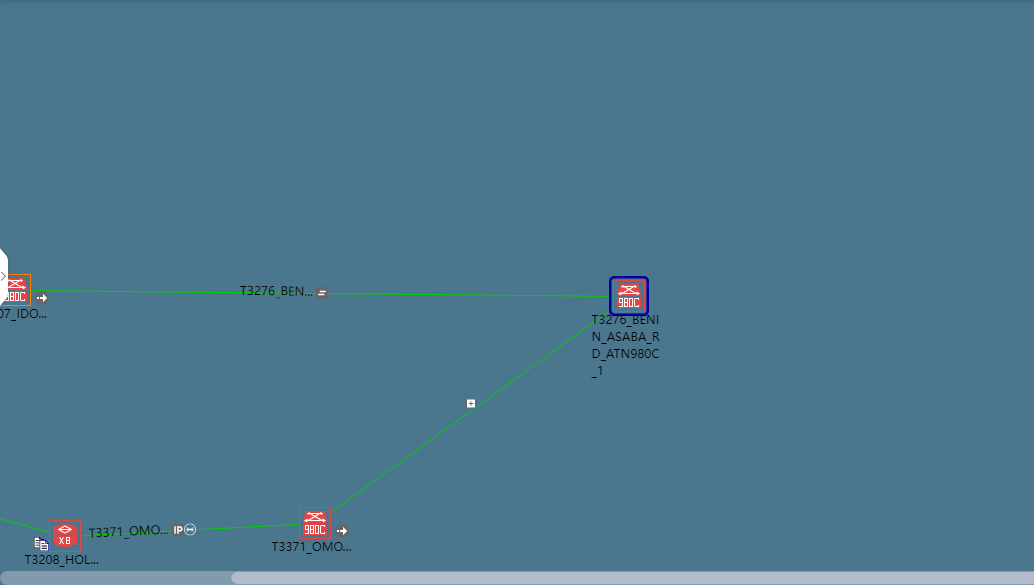ATN_Red: (617, 283, 648, 314), (301, 509, 331, 538), (3, 276, 27, 307)
Link_Green: (333, 309, 607, 511), (81, 522, 292, 538), (3, 515, 45, 533)
Router_Red: (48, 522, 78, 553)
